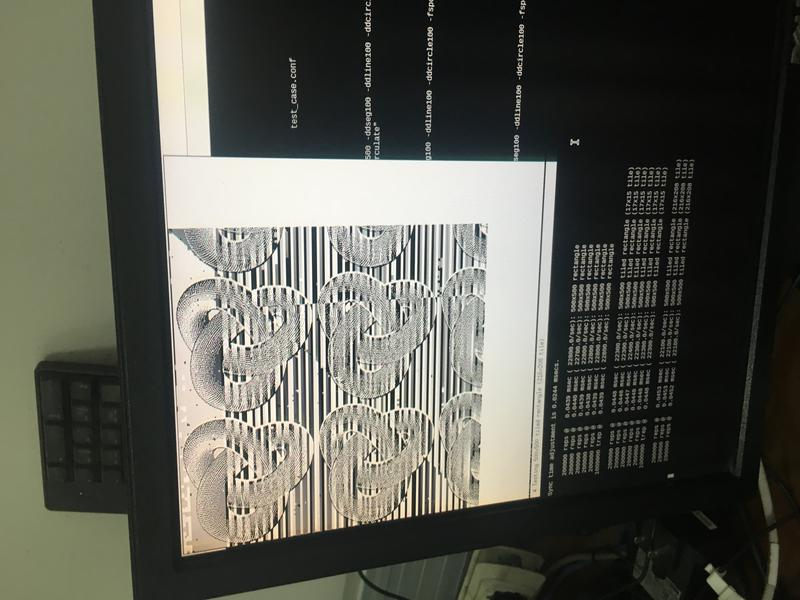xrandr_pass: (141, 150, 569, 560)
